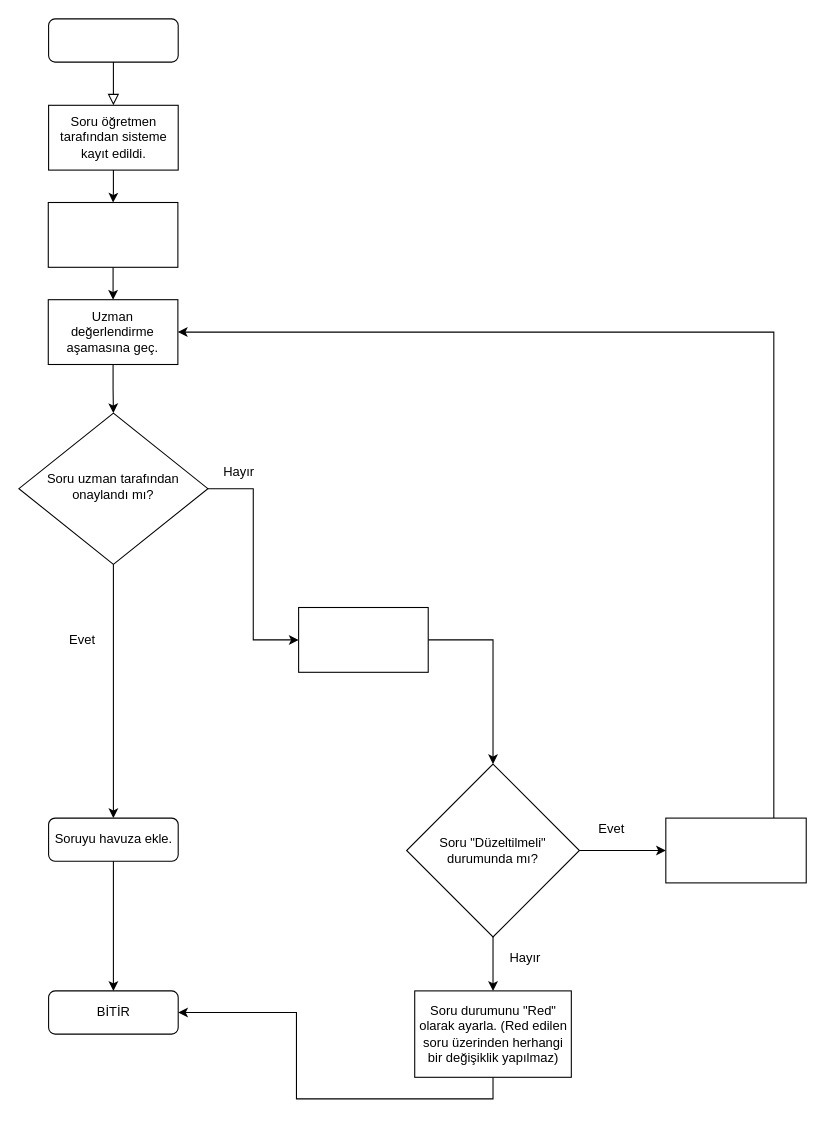
Image size: 825x1126. Some labels were removed from this diagram. Each missing label, with the centre of its shape:
BAŞLA: point (113, 40)
Soru durumunu "Aksiyon Bekleniyor" olarak ayarla.: point (112, 234)
Soru durumunu "Düzeltilmeli veya Red" olarak ayarla.: point (363, 639)
Öğretmen sorusunu düzenler ve kaydeder.: point (735, 850)
